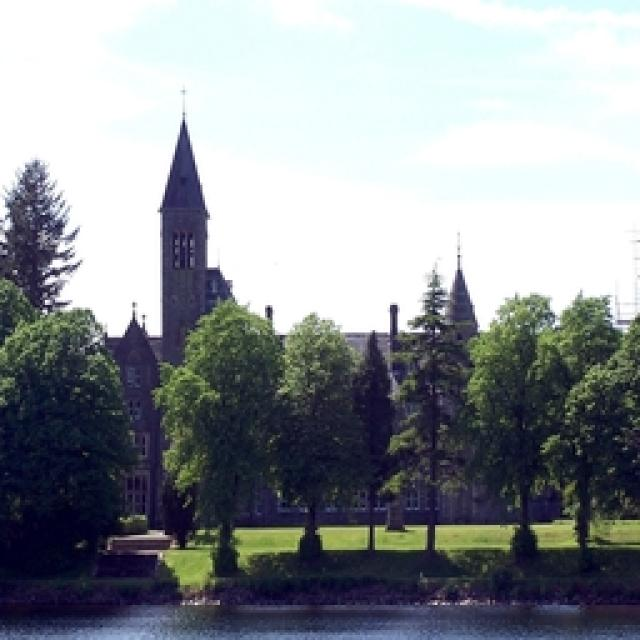Abbey: (106, 148, 617, 513)
